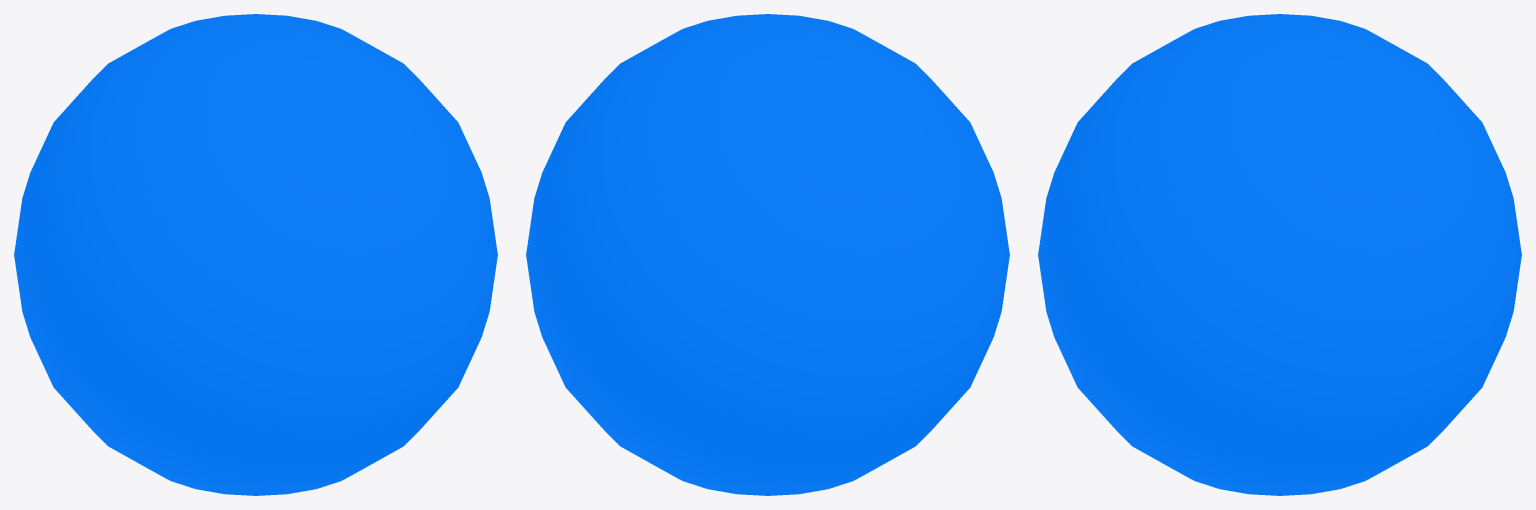
Rendered from totem_sfera.glb.
The picture shows the model from 3 angles, left to right: view 1: azimuth 30°, elevation 25°; view 2: azimuth 150°, elevation 25°; view 3: azimuth 270°, elevation 25°; orthographic projection.
Visible parts, largest first — view 1: totem_dach_sgh; view 2: totem_dach_sgh; view 3: totem_dach_sgh.
Part boxes in pixels (bbox=[...]): totem_dach_sgh: bbox=[14, 14, 497, 495]; totem_dach_sgh: bbox=[526, 14, 1009, 495]; totem_dach_sgh: bbox=[1038, 14, 1521, 495].
Bounding box in the file's own units: 1.55 × 1.55 × 1.55.
